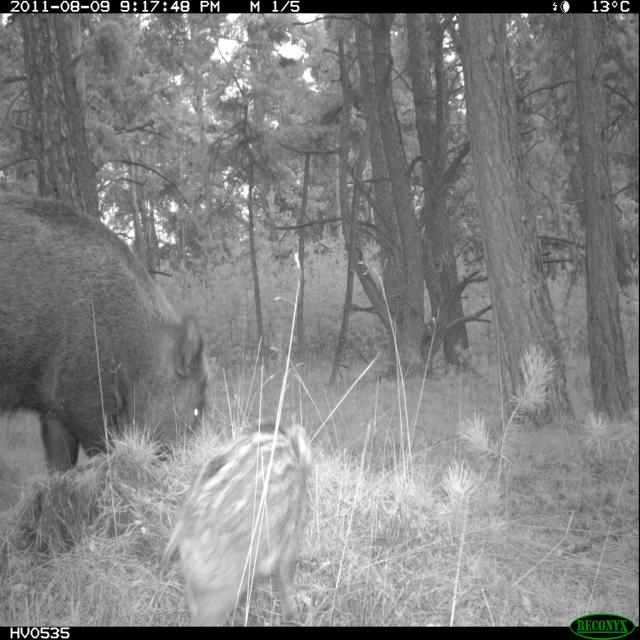boar: (0, 177, 232, 513), (142, 413, 339, 625)
